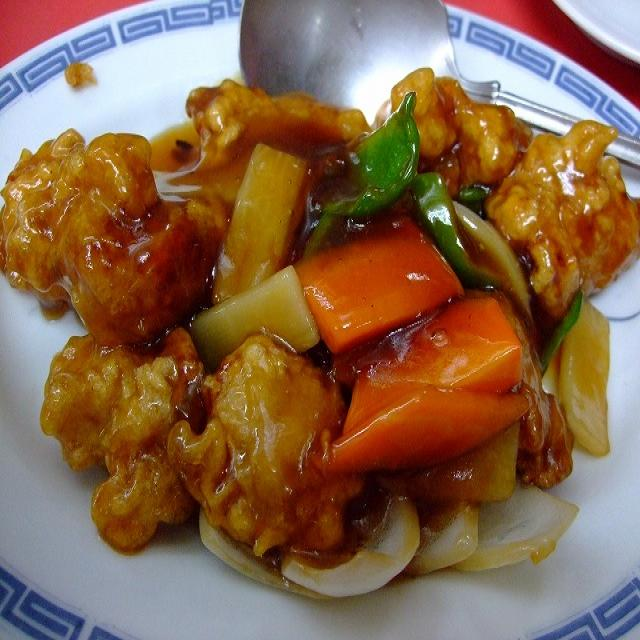猪肉菜式: (0, 80, 640, 592)
